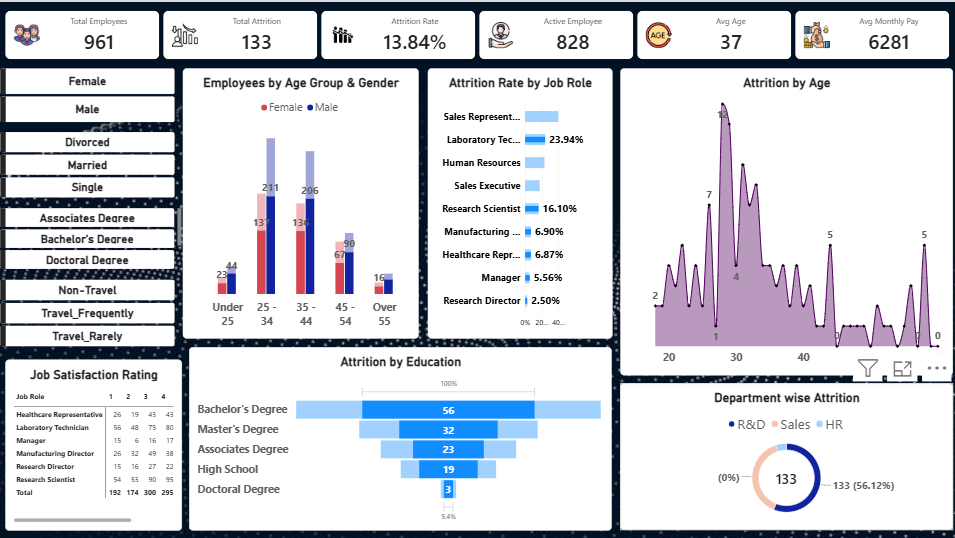

The page's visual inventory and layout, read from the dashboard file:
{"tool":"powerbi","page":{"name":"Page 1","canvas":[1920,1080],"ordinal":0},"visuals":[{"type":"cardVisual","fields":{"Data":["HR data.Total Employees","HR data.Total Attrition","HR data.Attrition Rate","HR data.Active Employee","Avg(HR data.Age)","Avg(HR data.Monthly Income)"]},"box":[13.4,17.8,1893.7,97.9],"z":0},{"type":"clusteredColumnChart","title":"Employees by Age Group & Gender","fields":{"Category":["HR data.Age Group"],"Y":["HR data.Total Employees"],"Series":["HR data.Gender"]},"box":[367.2,133.5,471.8,540.8],"z":1000},{"type":"areaChart","title":"Attrition by Age","fields":{"Category":["HR data.Age"],"Y":["HR data.Total Attrition"]},"box":[1241.7,133.5,665.4,614.2],"z":2000},{"type":"donutChart","title":"Department wise Attrition","fields":{"Category":["HR data.Department"],"Y":["HR data.Total Attrition"]},"box":[1241.7,763.3,665.4,293.7],"z":3000},{"type":"barChart","fields":{"Category":["HR data.Job Role"],"Y":["HR data.Attrition Rate"]},"box":[856.7,133.5,369.4,540.8],"z":4000},{"type":"pivotTable","title":"Job Satisfaction Rating","fields":{"Rows":["HR data.Job Role"],"Columns":["HR data.Job Satisfaction"],"Values":["HR data.Total Employees"]},"box":[13.4,714.3,353.8,342.7],"z":5000},{"type":"funnel","title":"Attrition by Education","fields":{"Category":["HR data.Education"],"Y":["HR data.Total Attrition"]},"box":[380.5,689.8,845.6,367.2],"z":6000},{"type":"advancedSlicerVisual","fields":{"Values":["HR data.Gender"]},"box":[2.2,133.5,349.4,109],"z":7000},{"type":"advancedSlicerVisual","fields":{"Values":["HR data.Marital Status"]},"box":[2.2,260.4,349.4,131.3],"z":7001},{"type":"advancedSlicerVisual","fields":{"Values":["HR data.Business Travel"]},"box":[2.2,554.1,349.4,135.7],"z":7002},{"type":"advancedSlicerVisual","fields":{"Values":["HR data.Education"]},"box":[2.2,411.7,362.7,124.6],"z":7003}]}

Visuals, with their boxes in screenshot pixels (x1, y1, x2, y2), scaled from the page's 1920x1080 canvas onto the 955x538 screenshot:
cardVisual - HR data.Total Employees x HR data.Total Attrition: detection(7, 9, 949, 58)
"Employees by Age Group & Gender" clusteredColumnChart: detection(183, 67, 417, 336)
"Attrition by Age" areaChart: detection(618, 67, 949, 372)
"Department wise Attrition" donutChart: detection(618, 380, 949, 527)
barChart - HR data.Job Role x HR data.Attrition Rate: detection(426, 67, 610, 336)
"Job Satisfaction Rating" pivotTable: detection(7, 356, 183, 527)
"Attrition by Education" funnel: detection(189, 344, 610, 527)
advancedSlicerVisual - HR data.Gender: detection(1, 67, 175, 121)
advancedSlicerVisual - HR data.Marital Status: detection(1, 130, 175, 195)
advancedSlicerVisual - HR data.Business Travel: detection(1, 276, 175, 344)
advancedSlicerVisual - HR data.Education: detection(1, 205, 181, 267)
